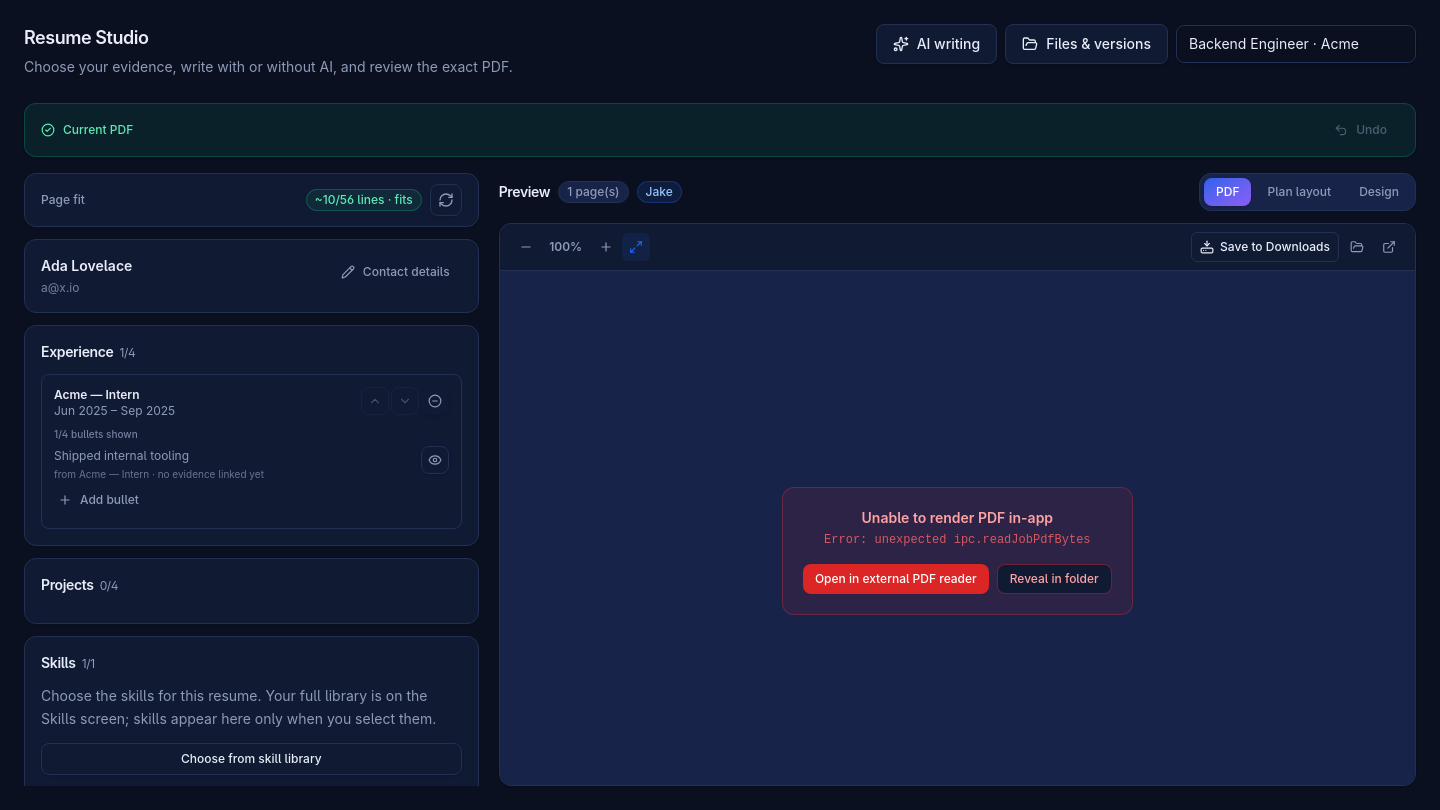
it: journey · editing a bullet › undo never crosses jobs after a workspace switch
The image size is (1440, 810).
Check: the message "Current PDF Undo" is shown, box [24, 103, 1416, 157]
Click the button named "exclude" at (435, 401), box [421, 387, 449, 415]
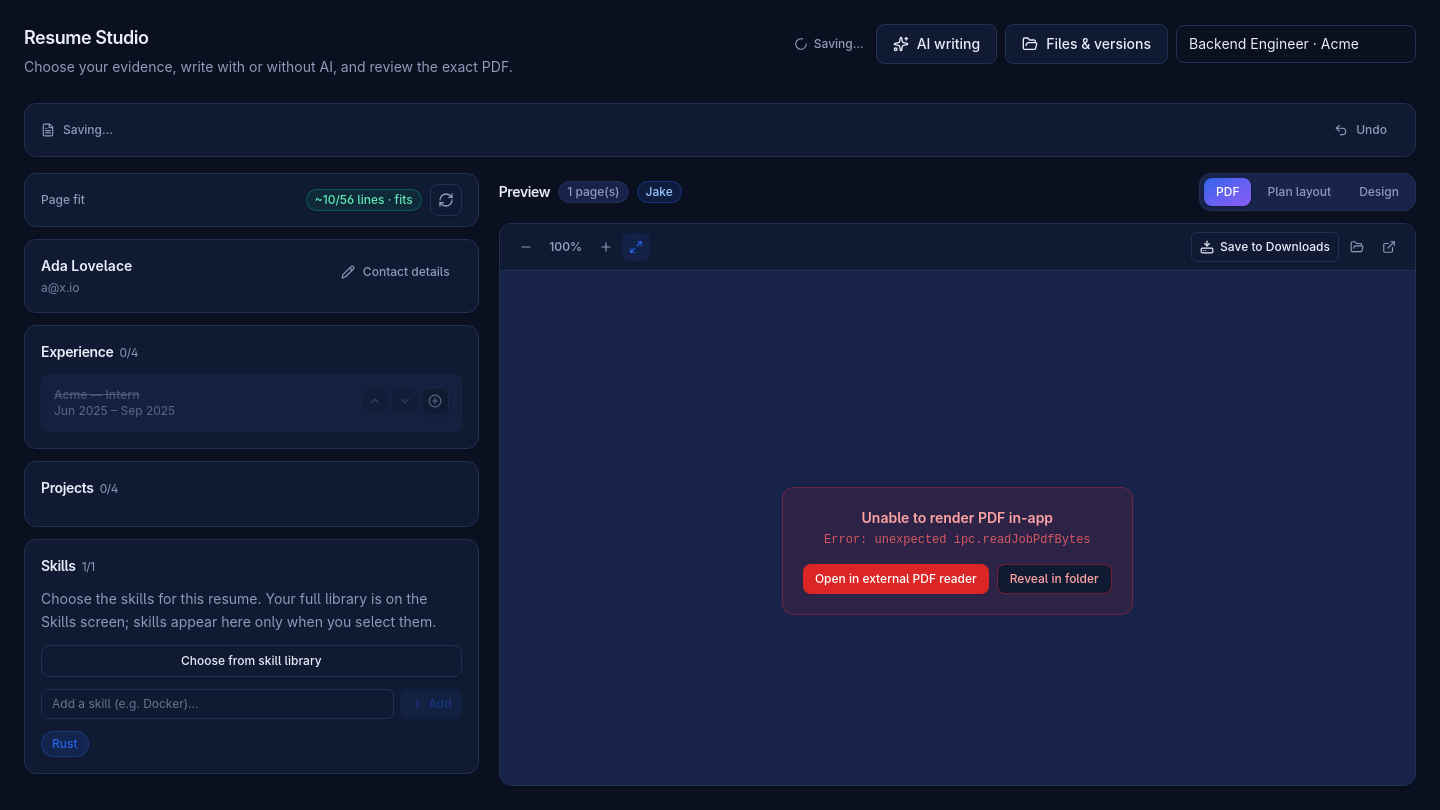
Check: the button with test id "studio-undo" is enabled, box [1322, 114, 1399, 146]
# Switch jobs via the header Select (the first combobox on the page).
Select "Frontend Developer · Northwind" in the dropdown at (1296, 44), box [1176, 25, 1416, 63]
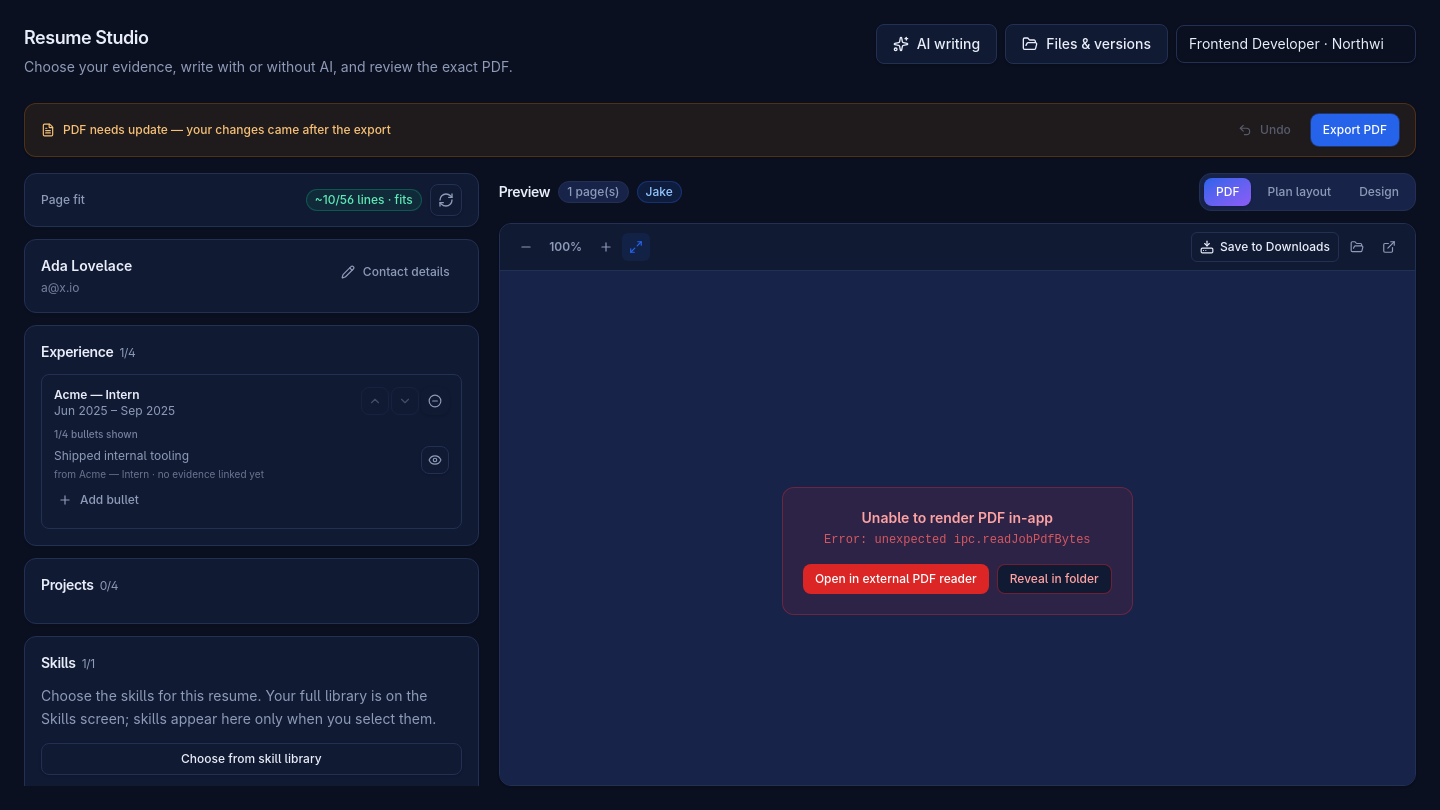
Check: the button with test id "studio-undo" is disabled, box [1226, 114, 1303, 146]
